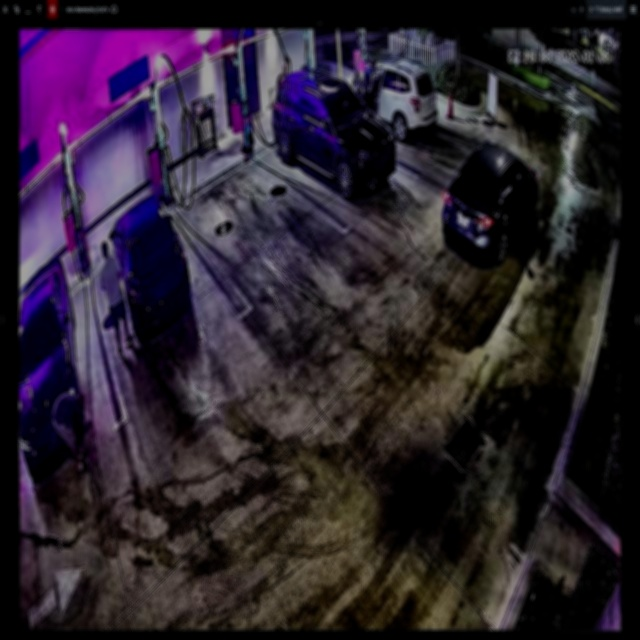Car: (275, 68, 396, 196), (111, 193, 189, 339), (441, 143, 540, 257)
